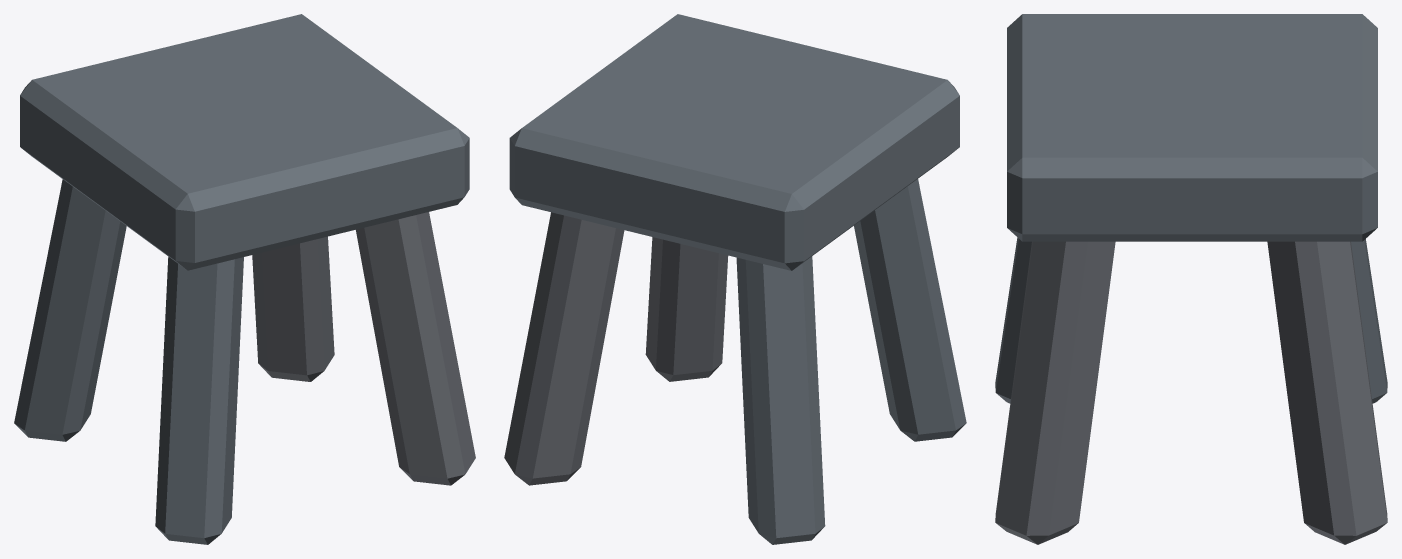
File: chair_b_130.gltf
3 views of the same model, side by side, from view 1: azimuth 30°, elevation 25°; view 2: azimuth 150°, elevation 25°; view 3: azimuth 270°, elevation 25° (orthographic). The views are drawn at different scales.
Visible parts, largest first — view 1: chair_b007; view 2: chair_b007; view 3: chair_b007.
Boxes of the visible parts, x1,y1,x2,y2 form: chair_b007: (14,14,475,544); chair_b007: (504,14,966,544); chair_b007: (995,14,1387,544).
Size of the model in its own units: 0.4226 by 0.4537 by 0.4233.
Materials: 1 (1 with a texture image).
